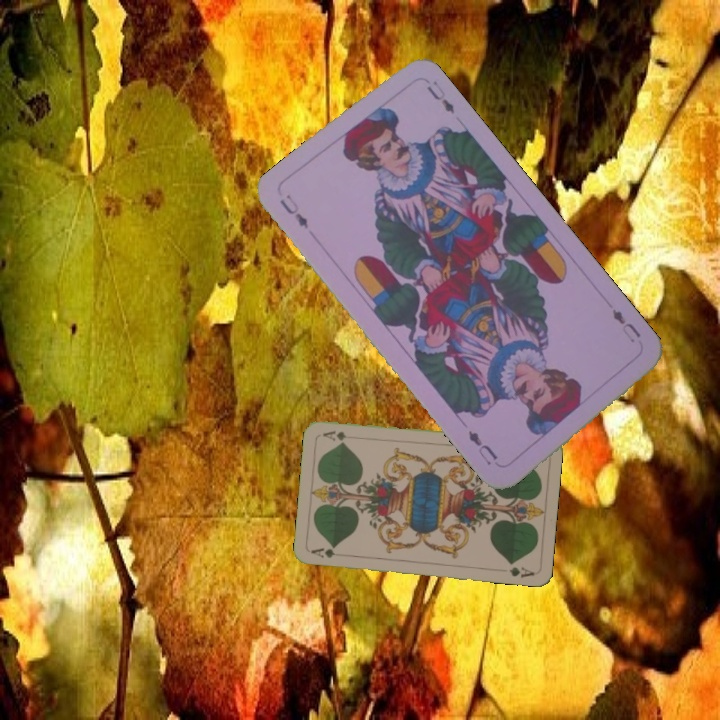EU: (275, 189, 311, 232), (608, 305, 644, 346)
GA: (308, 544, 337, 560)
